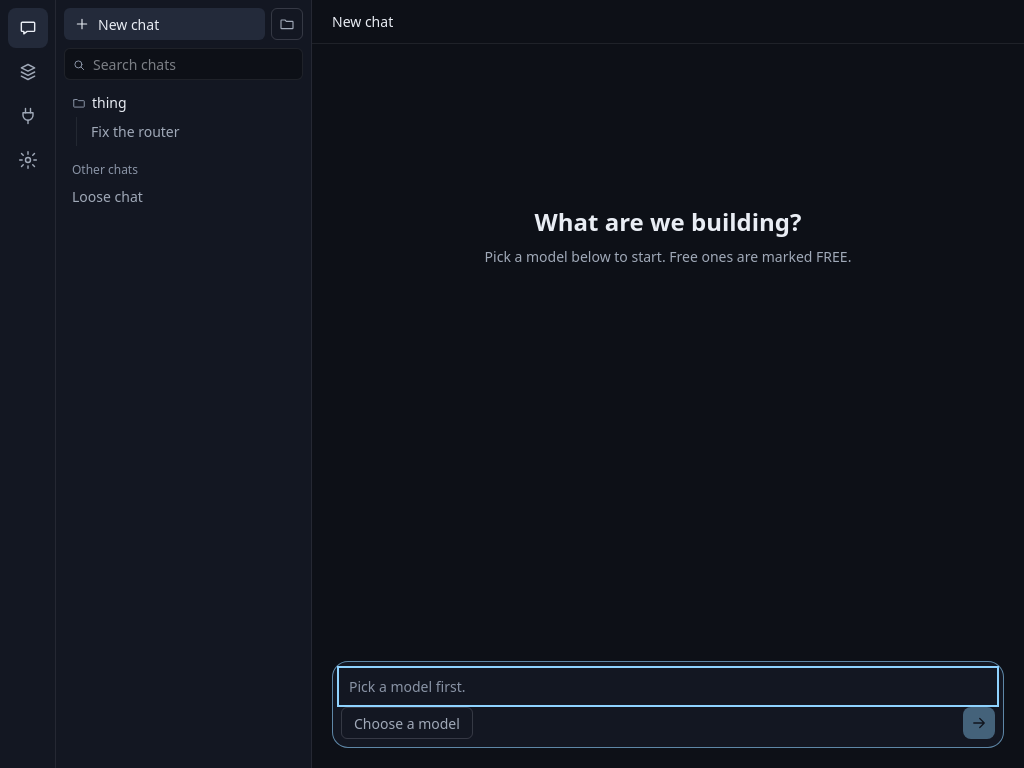
App shell › sidebar lists projects with nested sessions and searches
This screenshot has width=1024, height=768.
Expected: the button "Fix the router" is shown, left=83, top=117, right=279, bottom=146
Expected: the element named "Chats without a project" is shown, left=64, top=158, right=303, bottom=211
Type "borrow" into the search field labelled "Search chats" at (184, 64), box left=64, top=48, right=303, bottom=80
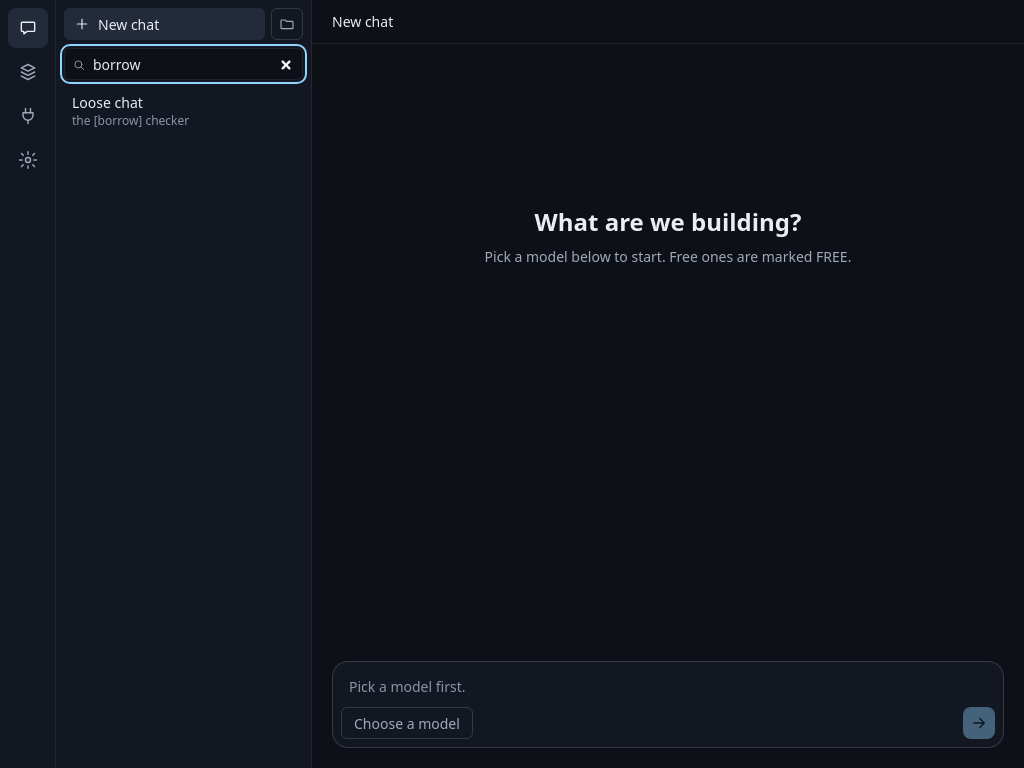
Expected: the text "the [borrow] checker" is shown, left=72, top=112, right=189, bottom=129
